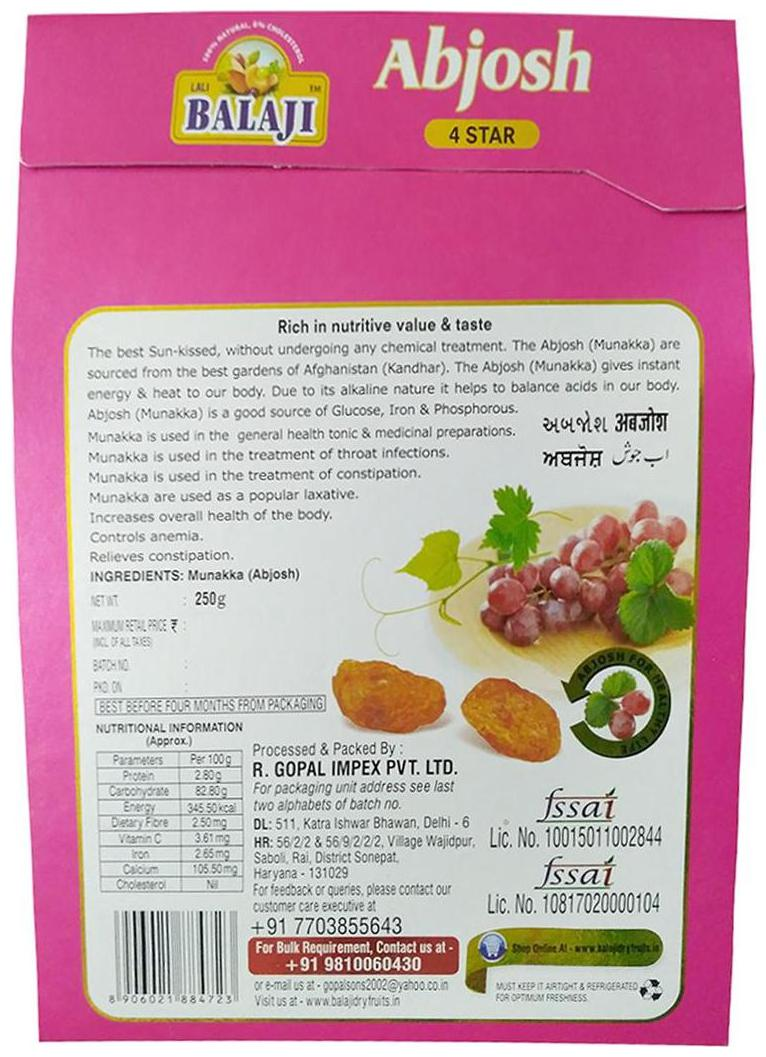fsaai: (535, 787, 623, 822)
